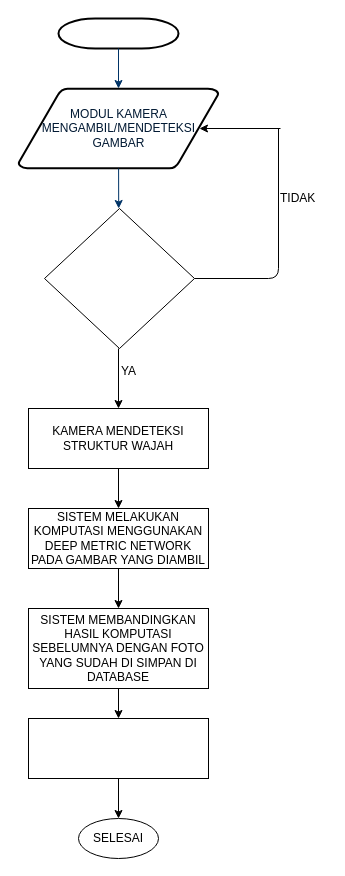
This 345x876 diagram has some shape labels left out. Here are the shapes that lost their labels. From the top down, the centre of each, then its label:
At point 118,33: "MULAI".
At point 119,278: "GAMBAR YANG DIAMBIL JELAS?".
At point 118,748: "MELAKUKAN PENGENALAN WAJAH".
